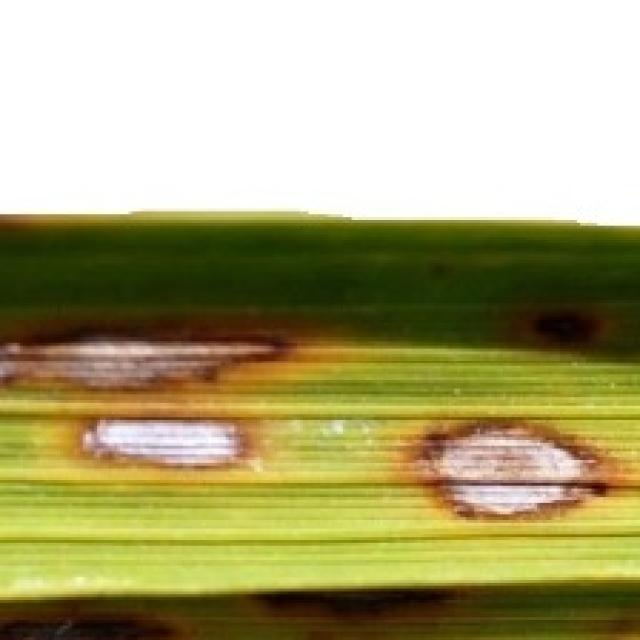Rice___Brown_Spot: (0, 211, 637, 637)
